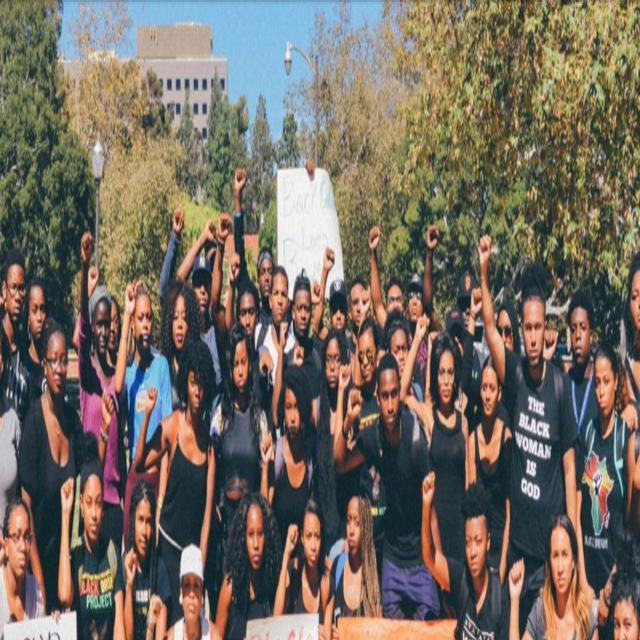body: (477, 230, 578, 640), (332, 351, 442, 622), (133, 337, 219, 631), (398, 311, 470, 618), (20, 321, 85, 640), (77, 228, 128, 564), (208, 321, 270, 587), (580, 340, 635, 639), (417, 465, 511, 639), (114, 276, 173, 552), (158, 205, 222, 418), (258, 361, 319, 563), (541, 284, 603, 481), (56, 463, 125, 639), (508, 512, 600, 640), (466, 353, 516, 587), (215, 489, 286, 639), (422, 222, 486, 388), (111, 476, 176, 639), (368, 224, 427, 386), (313, 329, 352, 573), (273, 494, 337, 639), (330, 488, 383, 640), (272, 274, 322, 431), (460, 286, 521, 410), (232, 164, 276, 326), (617, 245, 640, 550), (0, 493, 46, 639), (160, 278, 205, 417), (163, 541, 224, 639), (70, 262, 122, 373), (0, 246, 31, 431), (174, 217, 229, 318), (253, 264, 296, 390), (312, 245, 353, 362), (349, 312, 384, 445), (380, 307, 425, 405), (224, 250, 262, 343), (495, 299, 521, 431), (20, 277, 50, 388), (328, 274, 354, 355), (612, 573, 640, 639), (384, 273, 406, 318)
